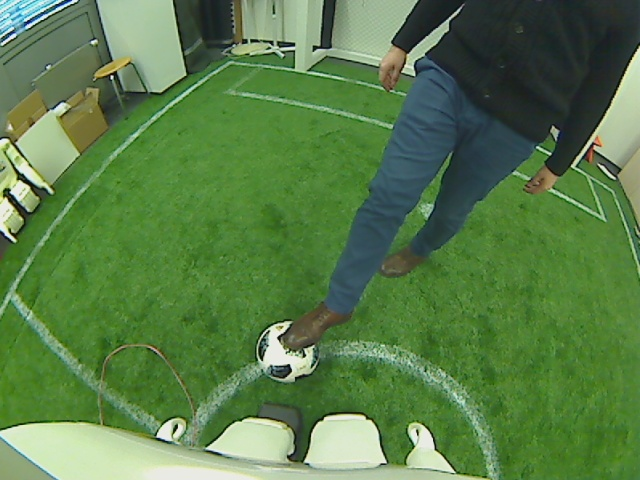ball: (253, 318, 322, 385)
